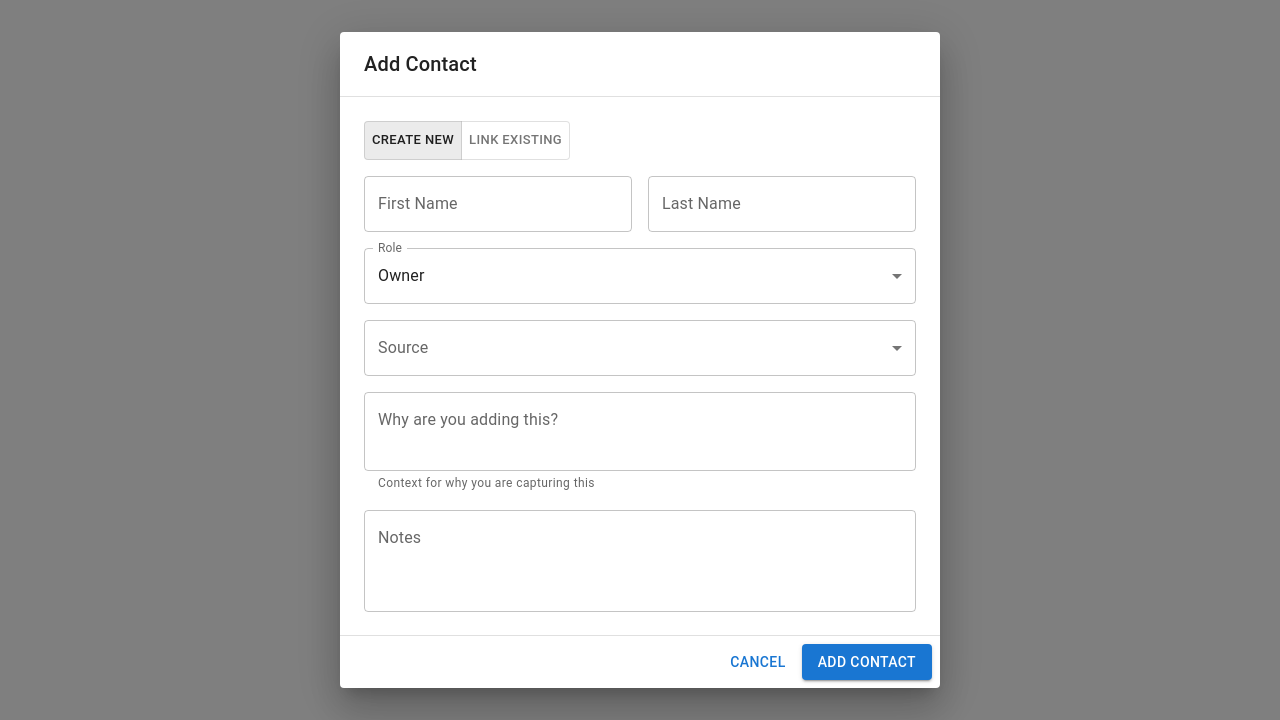
ContactFormModal › role description field › is shown when role is changed to "other"
The width and height of the screenshot is (1280, 720).
Note: MUI Select — click to open, then click the "Other" option
Press the mouse on the dropdown named "role" at (401, 276), box [378, 266, 424, 285]
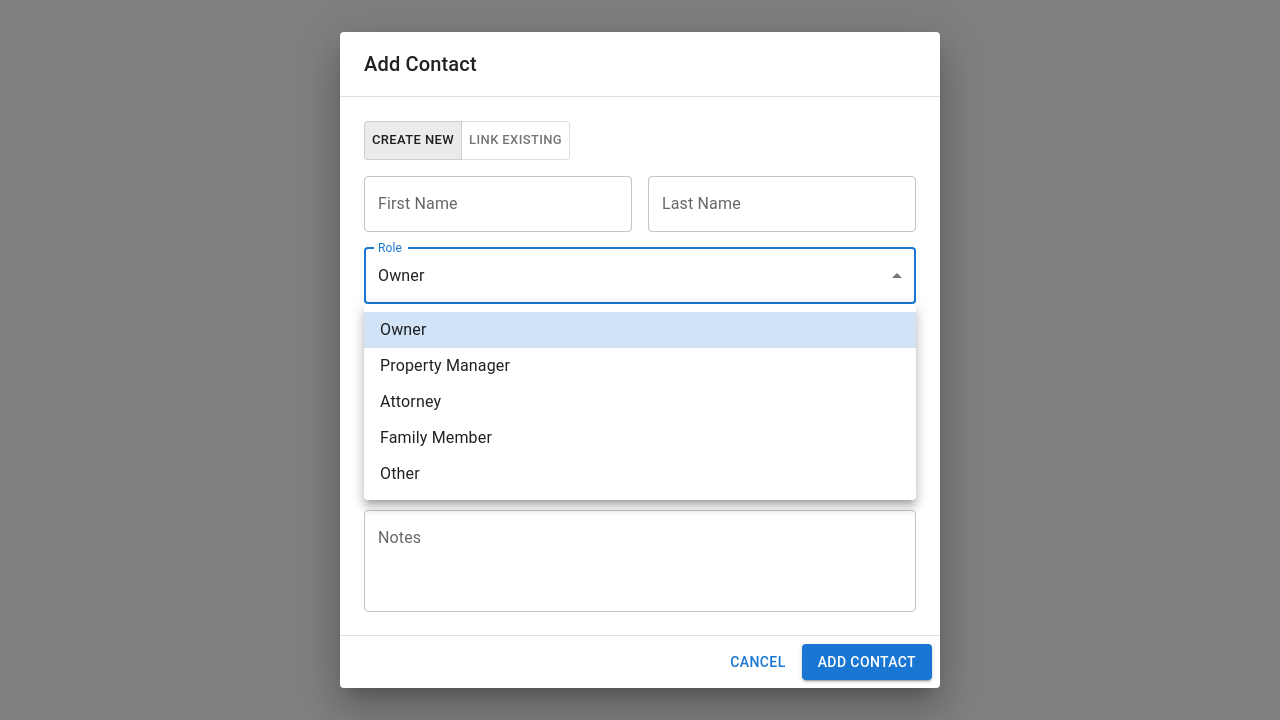
Now the option "Other" is shown
Click the option "Other". click: (400, 474)
box: [380, 464, 420, 483]
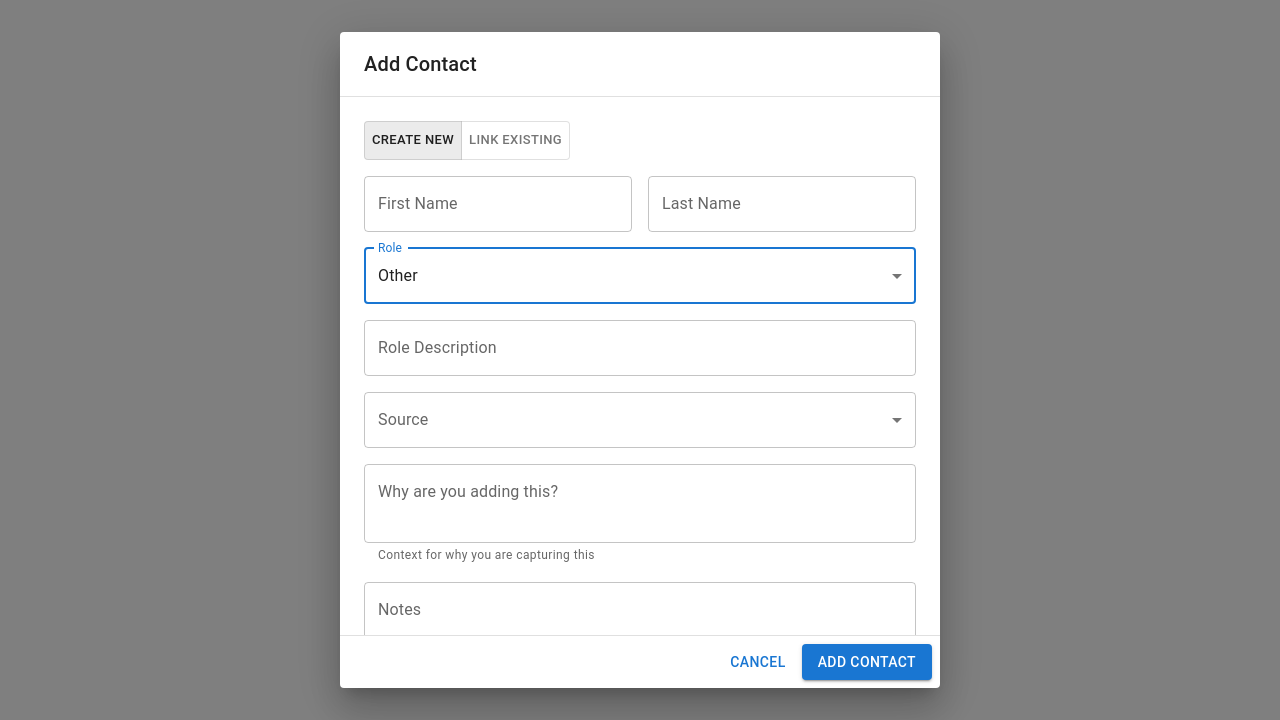
Now the field labelled "Role Description" is shown, box [364, 320, 916, 376]
